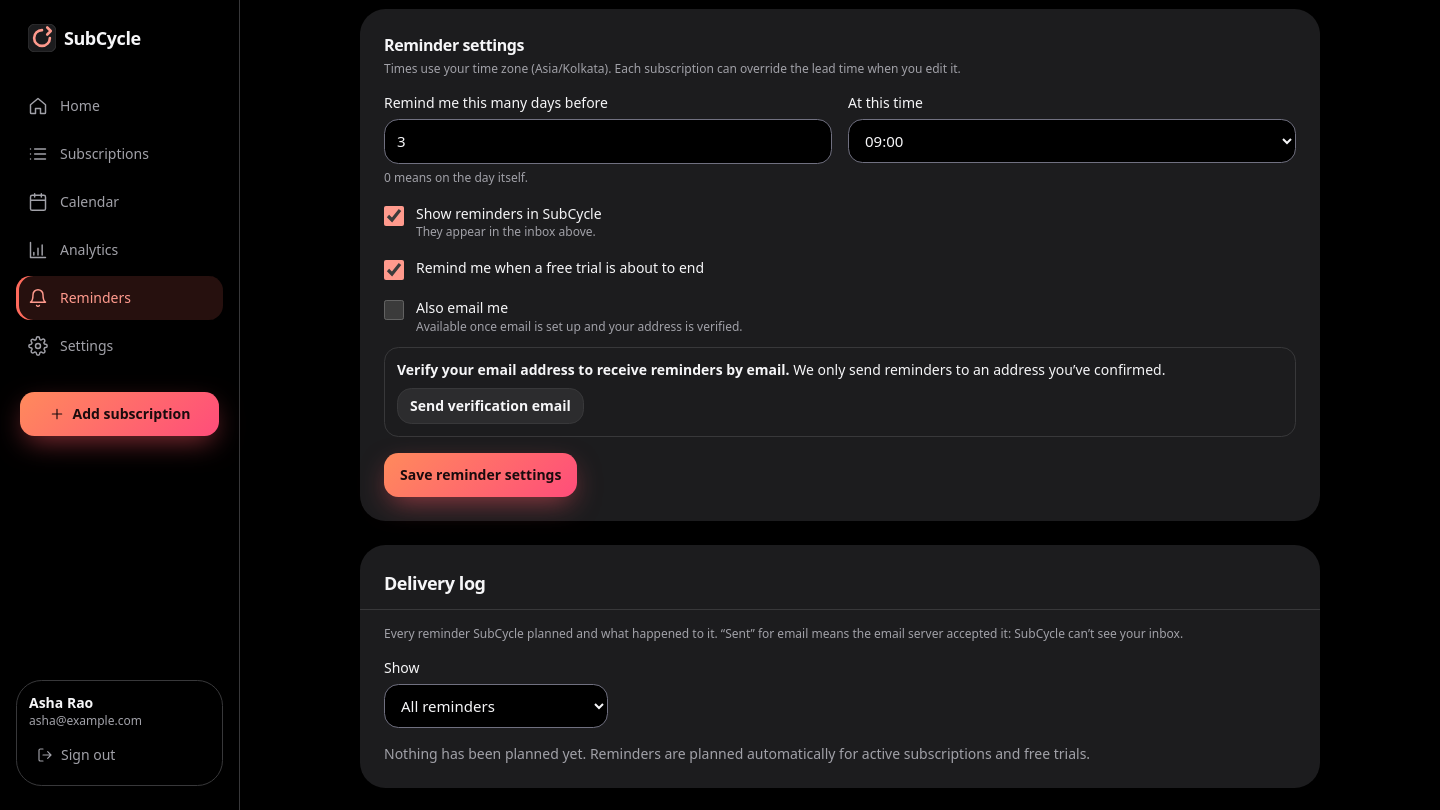
reminders: settings and email availability › configured but unverified: offers to send a verification email; the toggle stays disabled
(page scrolled)
Expected: the checkbox labelled "Also email me" is disabled, [384, 300, 404, 320]
Click the button "Send verification email": coordinates (490, 406) [397, 388, 584, 424]
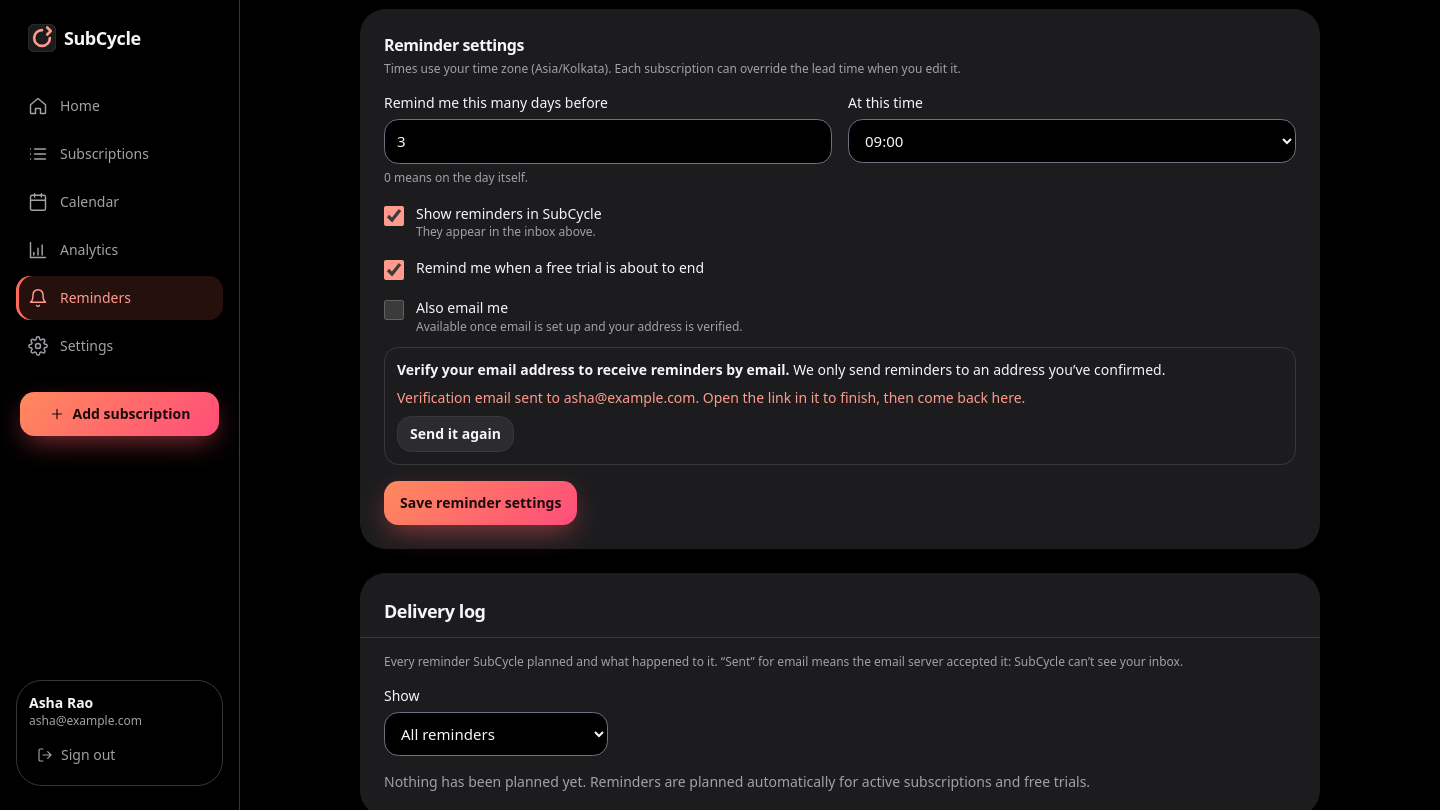
Expected: the checkbox labelled "Also email me" is disabled, [384, 300, 404, 320]
Now the text "Verification email sent to asha@example.com" is shown, box [397, 388, 1025, 406]
Now the button "Send it again" is shown, box [397, 416, 514, 452]
